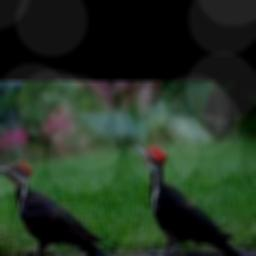Woodpecker: (133, 145, 246, 256), (0, 160, 121, 256)
